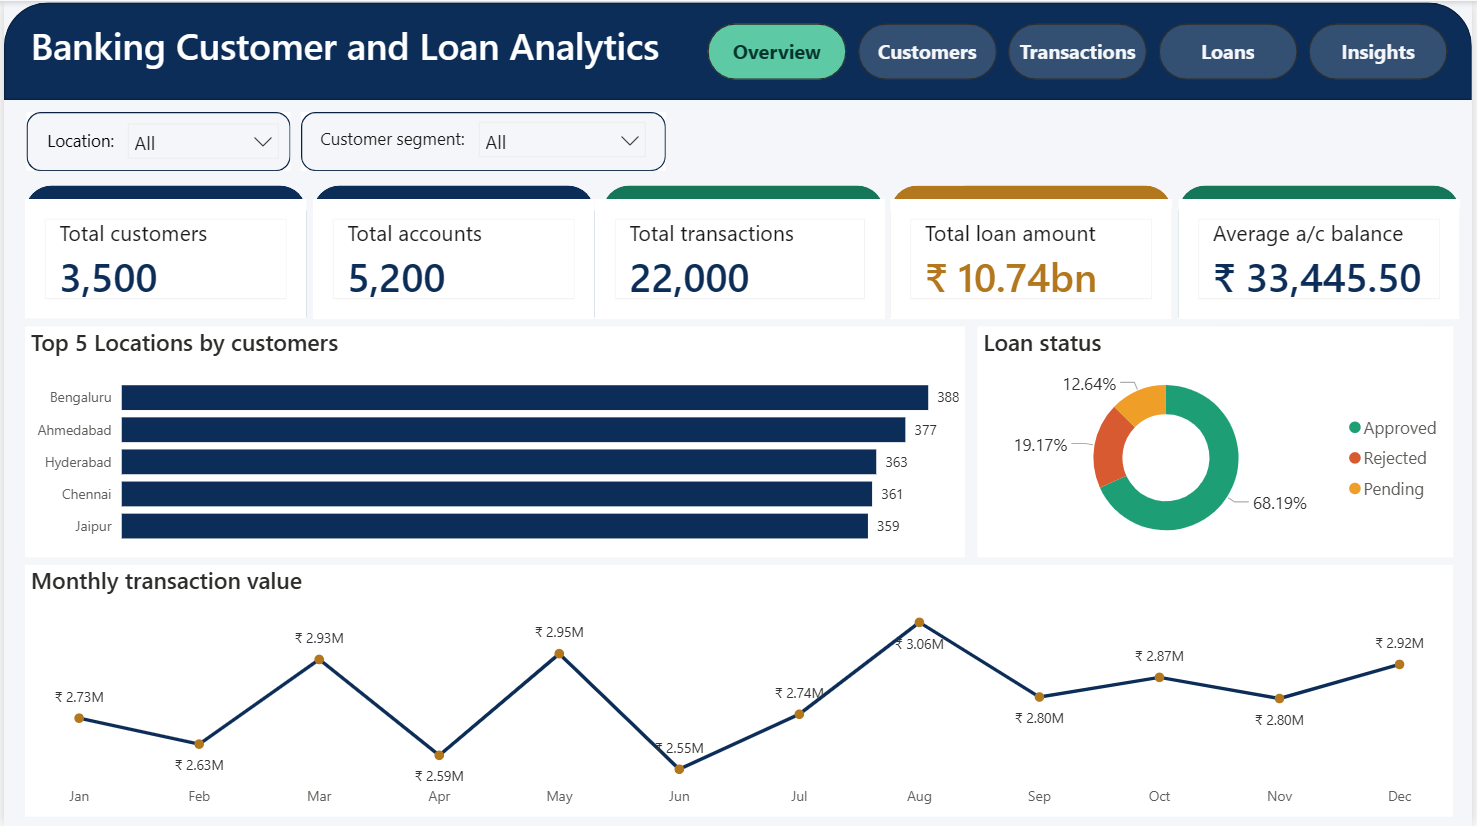

The dashboard page shown, as its layout file describes it:
{"tool":"powerbi","page":{"name":"Overview","canvas":[1280,720],"ordinal":0},"visuals":[{"type":"shape","box":[0,1.5,1279.5,85],"z":0},{"type":"shape","box":[18.2,160.5,245.3,115.1],"z":0,"group":"g3"},{"type":"textbox","box":[18.2,12.1,569.3,74.2],"z":1000},{"type":"shape","box":[269.5,160.5,245.3,115.1],"z":1000,"group":"g5"},{"type":"pageNavigator","box":[613.3,19.7,649.6,50],"z":2000},{"type":"shape","box":[520.9,160.5,245.3,115.1],"z":2000,"group":"g6"},{"type":"group","id":"g1","title":"Group 2","box":[20.2,95.4,557.2,53],"z":3000},{"type":"shape","box":[772.2,160.5,245.3,115.1],"z":3000,"group":"g7"},{"type":"shape","box":[1023.6,160.5,245.3,115.1],"z":4000,"group":"g8"},{"type":"lineChart","title":"Monthly transaction value","fields":{"Y":["_Measures.Total transaction value"],"Category":["Date.Month"]},"box":[18.2,492.1,1244.7,219],"z":4000},{"type":"cardVisual","title":"Total Customers","fields":{"Data":["_Measures.Total Customers"]},"box":[18.2,172,245.3,104],"z":5000,"group":"g3"},{"type":"donutChart","title":"Loan status","fields":{"Category":["Loans.Loan_Status"],"Y":["_Measures.Total loans"]},"box":[848,283.2,414.9,201.4],"z":5000},{"type":"shape","box":[20.2,96.8,230.2,51.6],"z":5500,"group":"g2"},{"type":"shape","box":[259.4,96.9,318,51.5],"z":5500,"group":"g4"},{"type":"slicer","fields":{"Values":["Customers.Customer_Segment"]},"box":[404.7,95.4,165.6,50.2],"z":6000,"group":"g4"},{"type":"slicer","fields":{"Values":["Locations.City"]},"box":[98.9,96.8,151.4,48.5],"z":6000,"group":"g2"},{"type":"cardVisual","fields":{"Data":["_Measures.Total Accounts"]},"box":[270,172,245.3,104.5],"z":6000,"group":"g5"},{"type":"barChart","title":"Top 5 Locations by customers","fields":{"Category":["Locations.City"],"Y":["_Measures.Total customers"]},"box":[18.2,283.2,819.2,201.4],"z":6000},{"type":"group","id":"g2","title":"Group 1","box":[20.2,96.8,230.2,51.6],"z":7000,"group":"g1"},{"type":"group","id":"g3","title":"Group 3","box":[18.2,160.5,245.3,115.5],"z":7000},{"type":"cardVisual","fields":{"Data":["_Measures.Total transactions"]},"box":[514.8,172,252.9,104.5],"z":7000,"group":"g6"},{"type":"group","id":"g4","title":"Group 1","box":[259.4,95.4,318,53],"z":8000,"group":"g1"},{"type":"textbox","box":[270.6,105,145.9,31.6],"z":8000,"group":"g4"},{"type":"textbox","box":[33,105.9,76.8,31.9],"z":8000,"group":"g2"},{"type":"group","id":"g5","title":"Group 4","box":[269.5,160.5,245.8,116],"z":8000},{"type":"cardVisual","fields":{"Data":["_Measures.Total Loan amount"]},"box":[772.2,172,245.3,104.5],"z":8000,"group":"g7"},{"type":"group","id":"g6","title":"Group 5","box":[514.8,160.5,252.9,116],"z":9000},{"type":"cardVisual","fields":{"Data":["_Measures.Average Account balance"]},"box":[1023.6,172,245.3,104.5],"z":9000,"group":"g8"},{"type":"group","id":"g7","title":"Group 6","box":[772.2,160.5,245.3,116],"z":10000},{"type":"group","id":"g8","title":"Group 7","box":[1023.6,160.5,245.3,116],"z":11000}]}

Visuals, with their boxes in screenshot pixels (x1, y1, x2, y2), scaled from the page's 1280x720 canvas onto the 1477x826 screenshot:
shape: region(0, 2, 1476, 99)
shape: region(21, 184, 304, 316)
textbox: region(21, 14, 678, 99)
shape: region(311, 184, 594, 316)
pageNavigator: region(708, 23, 1457, 80)
shape: region(601, 184, 884, 316)
"Group 2" group: region(23, 109, 666, 170)
shape: region(891, 184, 1174, 316)
shape: region(1181, 184, 1464, 316)
"Monthly transaction value" lineChart: region(21, 565, 1457, 816)
"Total Customers" cardVisual: region(21, 197, 304, 317)
"Loan status" donutChart: region(979, 325, 1457, 556)
shape: region(23, 111, 289, 170)
shape: region(299, 111, 666, 170)
slicer - Customers.Customer_Segment: region(467, 109, 658, 167)
slicer - Locations.City: region(114, 111, 289, 167)
cardVisual - _Measures.Total Accounts: region(312, 197, 595, 317)
"Top 5 Locations by customers" barChart: region(21, 325, 966, 556)
"Group 1" group: region(23, 111, 289, 170)
"Group 3" group: region(21, 184, 304, 317)
cardVisual - _Measures.Total transactions: region(594, 197, 886, 317)
"Group 1" group: region(299, 109, 666, 170)
textbox: region(312, 120, 481, 157)
textbox: region(38, 121, 127, 158)
"Group 4" group: region(311, 184, 595, 317)
cardVisual - _Measures.Total Loan amount: region(891, 197, 1174, 317)
"Group 5" group: region(594, 184, 886, 317)
cardVisual - _Measures.Average Account balance: region(1181, 197, 1464, 317)
"Group 6" group: region(891, 184, 1174, 317)
"Group 7" group: region(1181, 184, 1464, 317)
